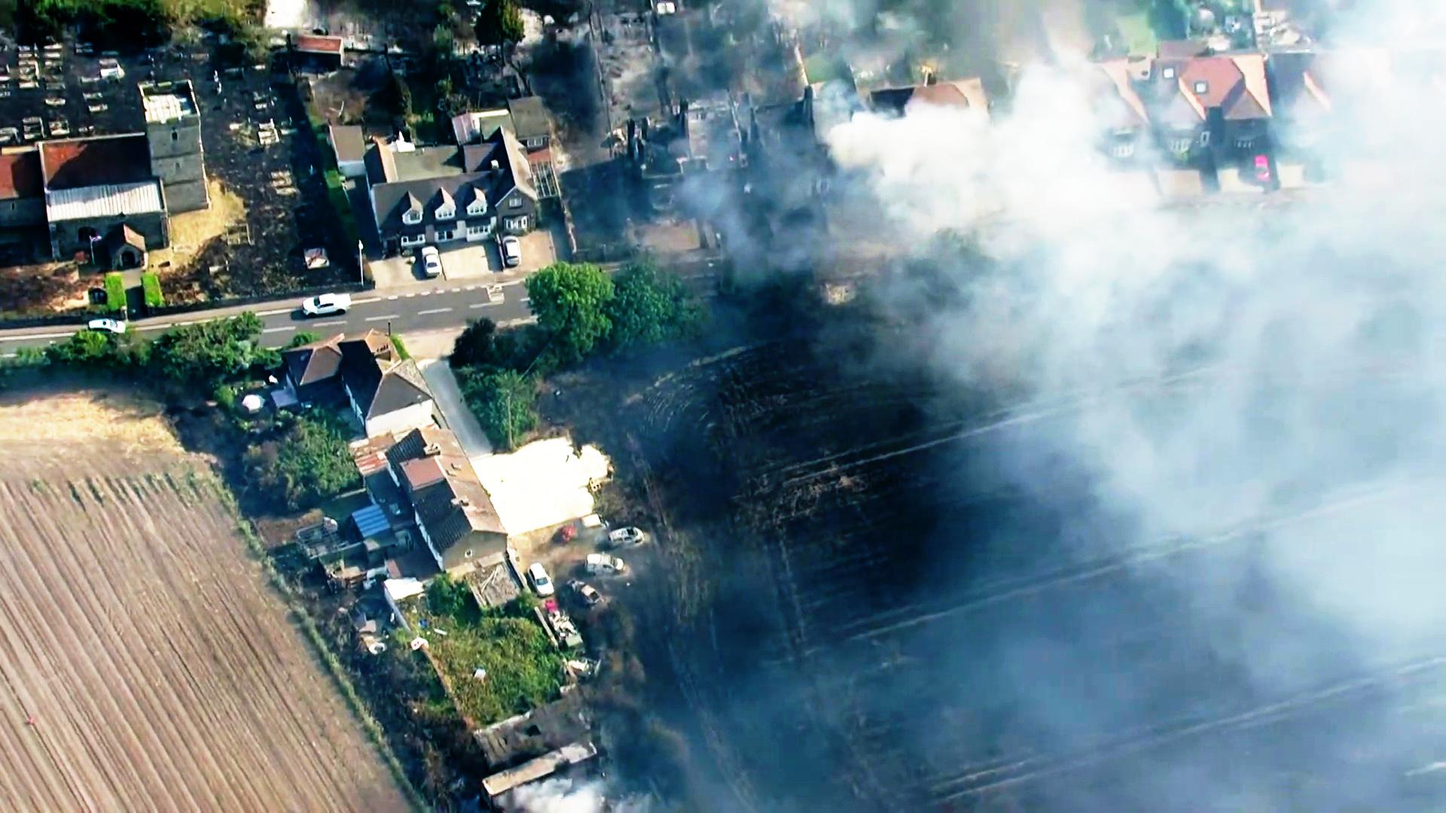smoke: (1059, 194, 1416, 520), (855, 85, 1085, 223)
